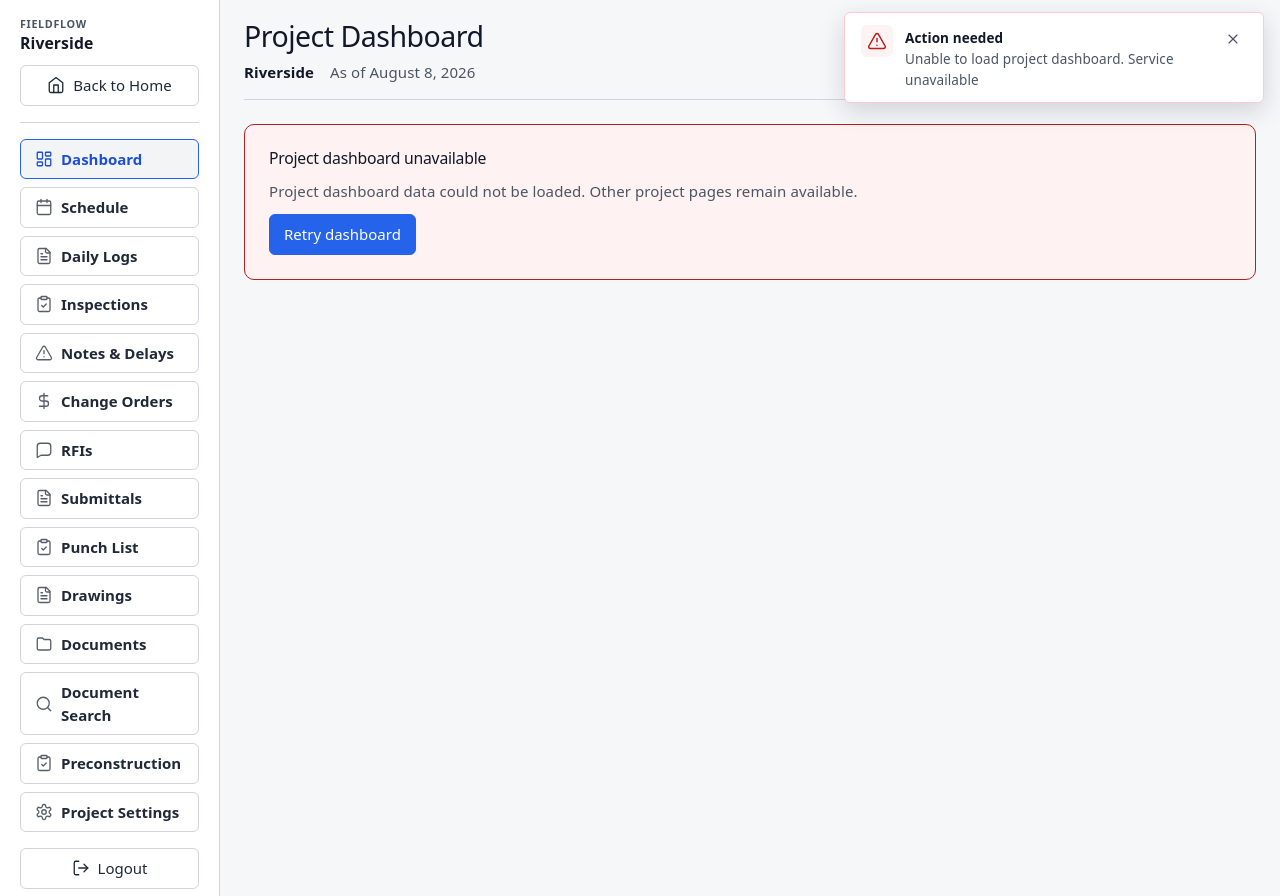
App integration (hooks wiring) › shows global and local feedback and retries without reloading the app
Expected: the text "Unable to load project dashboard. Service unavailable" is shown, [905,49,1207,90]
Expected: the text "Project dashboard data could not be loaded. Other project pages remain available." is shown, [269,181,858,201]
Click the button "Retry dashboard" at (342, 235), box [269,214,416,255]
(page scrolled)
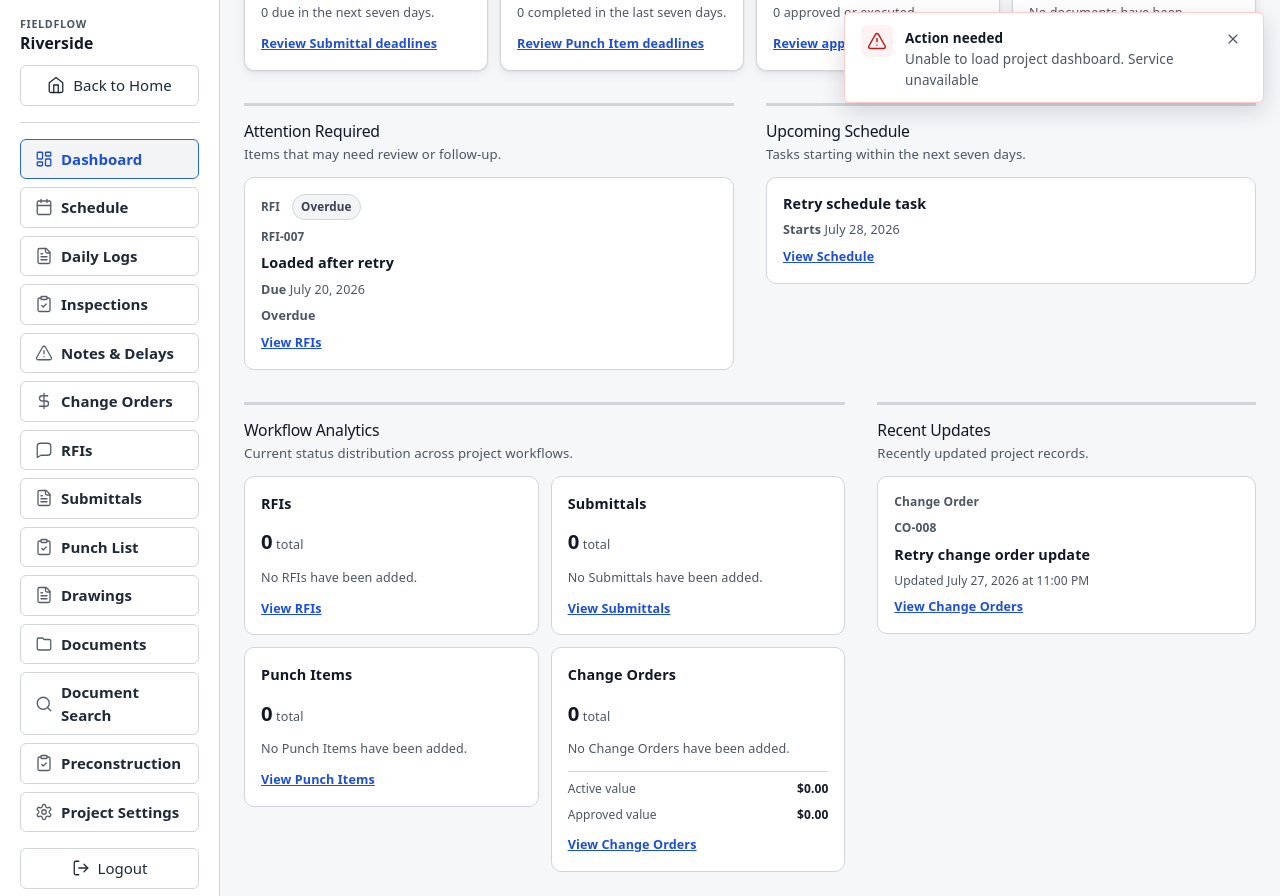
Now the heading "Loaded after retry" is shown, box [261,253,394,272]
Now the heading "Retry schedule task" is shown, box [783,194,926,213]
Now the heading "Retry change order update" is shown, box [894,545,1090,564]
